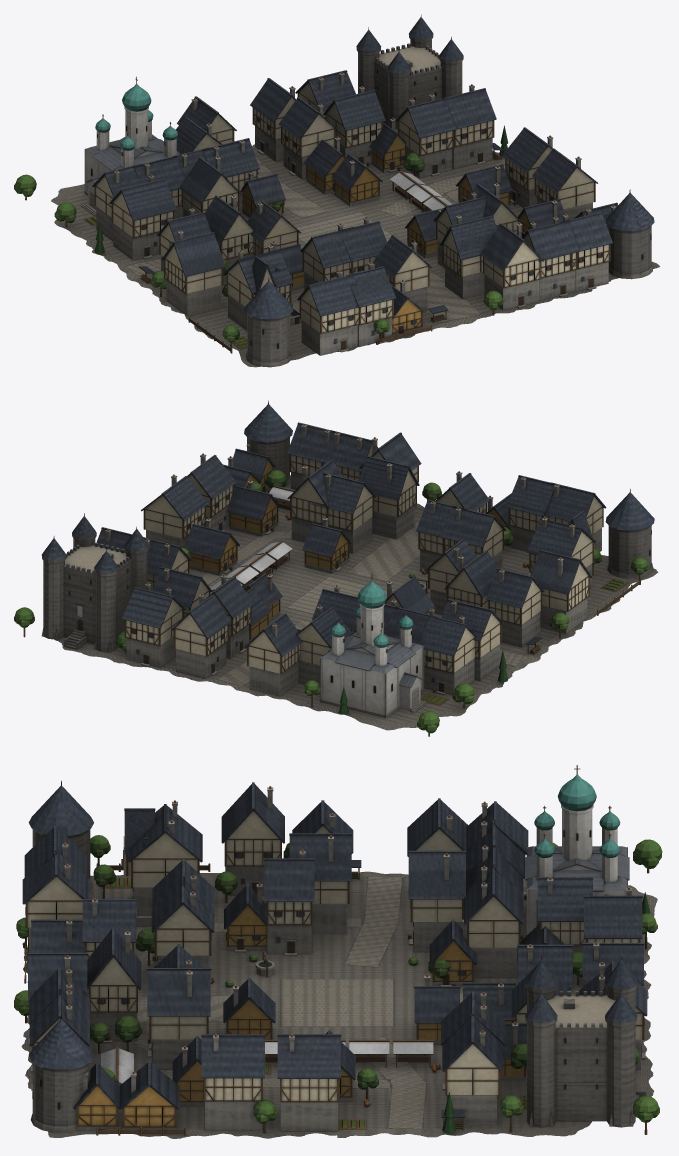
File: kingdoms-town-big-a-easteurope-8e231448.glb
3 views of the same model, one above another, from view 1: azimuth 30°, elevation 25°; view 2: azimuth 150°, elevation 25°; view 3: azimuth 270°, elevation 25° (orthographic). The views are drawn at different scales.
Visible parts, largest first — view 1: LOD0; view 2: LOD0; view 3: LOD0.
Boxes of the visible parts, x1=… form: LOD0: x1=14, y1=14, x2=659, y2=367; LOD0: x1=14, y1=400, x2=658, y2=736; LOD0: x1=14, y1=765, x2=662, y2=1138.
Size of what is drawn, in the model's own units: 8.11 by 2.26 by 8.14.
Materials: 3 (3 with a texture image).
